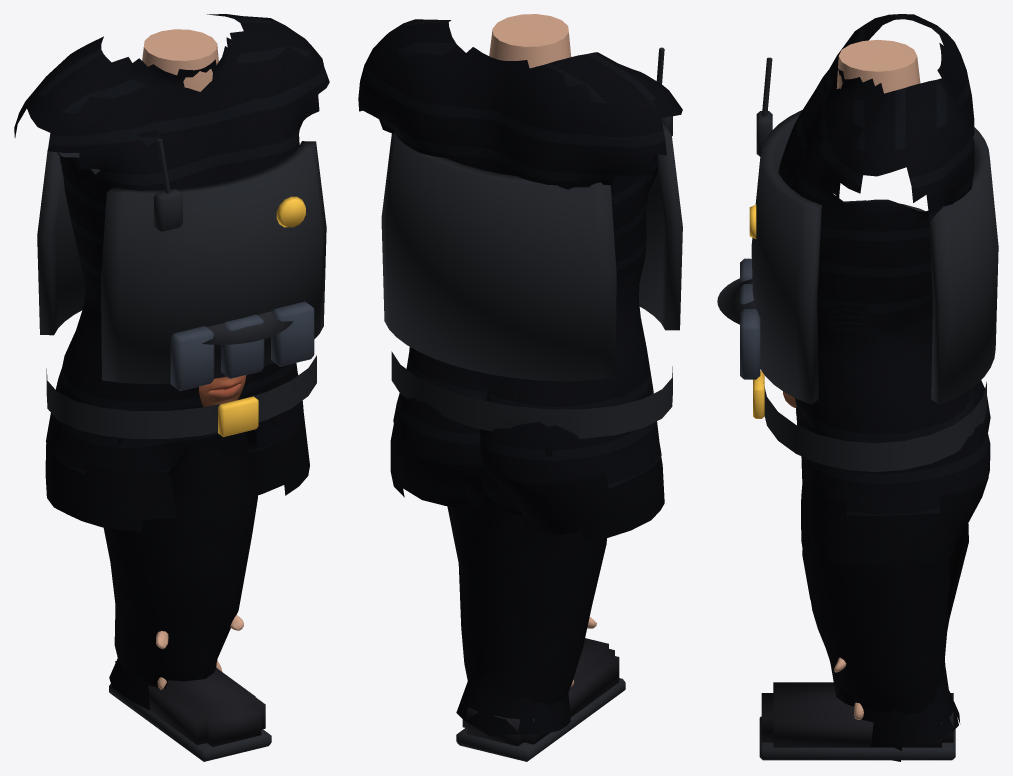
3 renders of one model, left to right at view 1: azimuth 30°, elevation 25°; view 2: azimuth 150°, elevation 25°; view 3: azimuth 270°, elevation 25°, orthographic. The views are drawn at different scales.
Visible parts, largest first — view 1: Torso, ThighL, ThighR, ShinL, Head; view 2: Torso, ThighL, ThighR, ShinL; view 3: Torso, ThighR, ShinL, ThighL, Head.
Part boxes in pixels (x1=…): Torso: x1=14, y1=14, x2=329, y2=531; ThighL: x1=103, y1=438, x2=230, y2=686; ThighR: x1=109, y1=429, x2=257, y2=710; ShinL: x1=109, y1=661, x2=271, y2=761; Head: x1=199, y1=311, x2=293, y2=407; Torso: x1=358, y1=14, x2=682, y2=541; ThighL: x1=456, y1=466, x2=606, y2=735; ThighR: x1=447, y1=476, x2=570, y2=736; ShinL: x1=451, y1=506, x2=625, y2=761; Torso: x1=740, y1=14, x2=998, y2=567; ThighR: x1=801, y1=458, x2=960, y2=761; ShinL: x1=759, y1=523, x2=968, y2=760; ThighL: x1=796, y1=412, x2=958, y2=746; Head: x1=717, y1=200, x2=925, y2=407.
Size of the model in its own units: 0.4827 by 1.05 by 0.387.
Materials: 11 (6 with a texture image).
